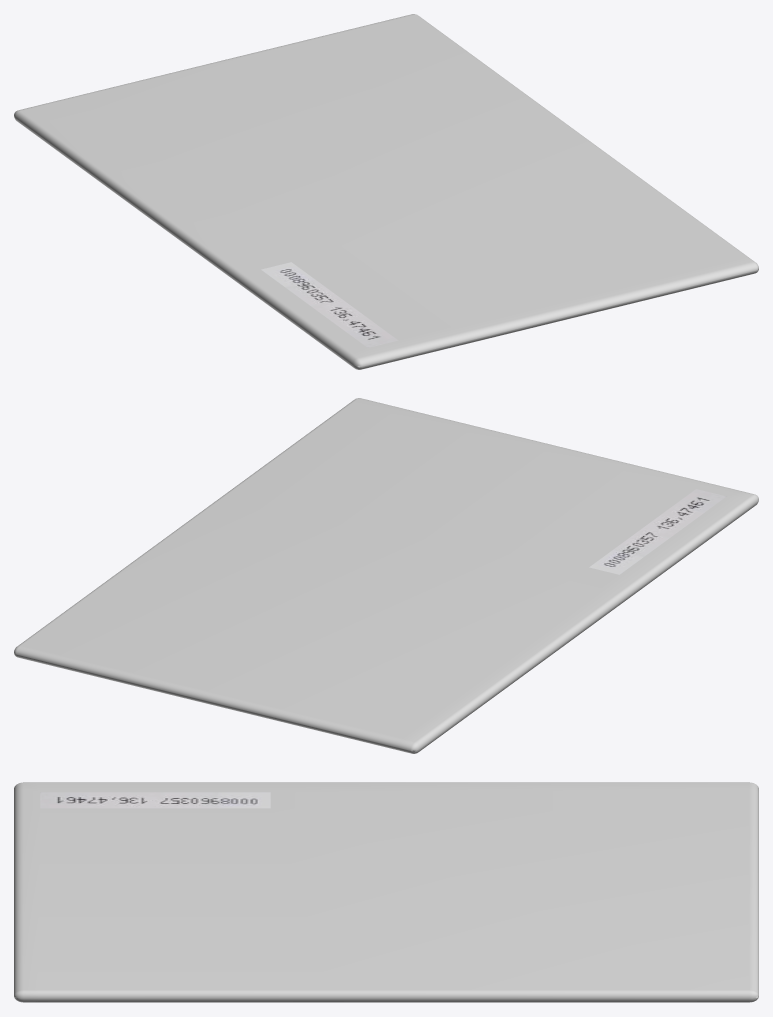
File: 5. WHITE CARD.gltf
3 renders of one model, top to bottom at view 1: azimuth 30°, elevation 25°; view 2: azimuth 150°, elevation 25°; view 3: azimuth 270°, elevation 25°, orthographic. The views are drawn at different scales.
Parts seen in each view (by area): view 1: WHITE CARD.001; view 2: WHITE CARD.001; view 3: WHITE CARD.001.
Part boxes in pixels (x1,y1,x2,y2): WHITE CARD.001: (14, 14, 758, 369); WHITE CARD.001: (14, 398, 758, 753); WHITE CARD.001: (14, 782, 758, 1002).
Bounding box in the file's own units: 0.0576 × 0.0015 × 0.0853.
2 materials, 1 textured.
